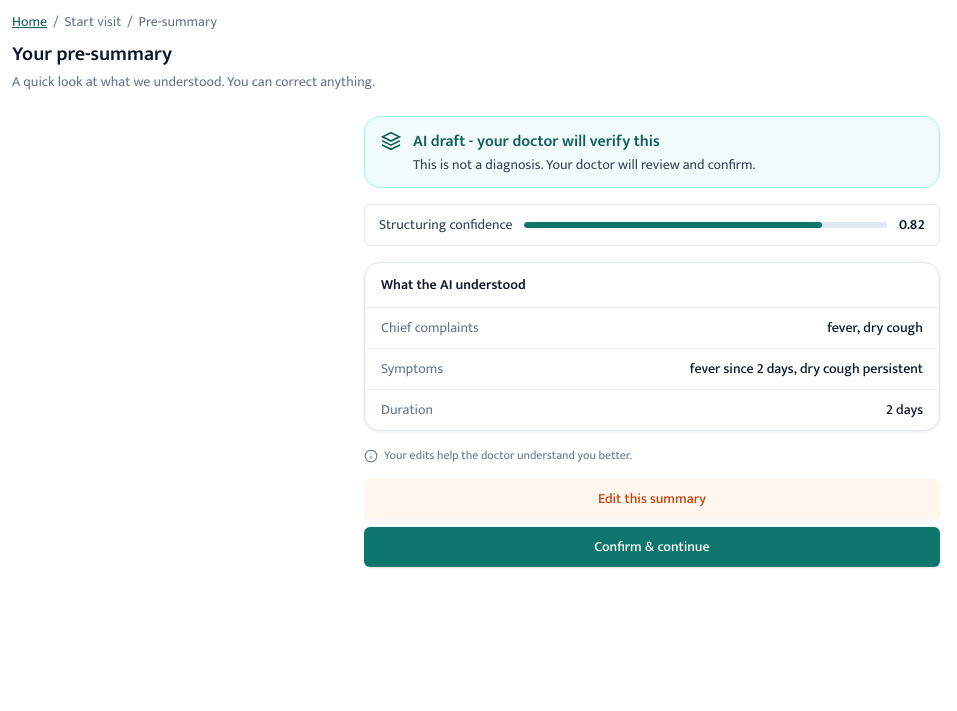
Test: PreSummaryReviewPage failure and edge cases › shows the save-failure banner and retries the same save
The image size is (957, 711).
Step 1. Click the button with test id "btn-edit" → (652, 499), box top-left (364, 479), bottom-right (940, 519)
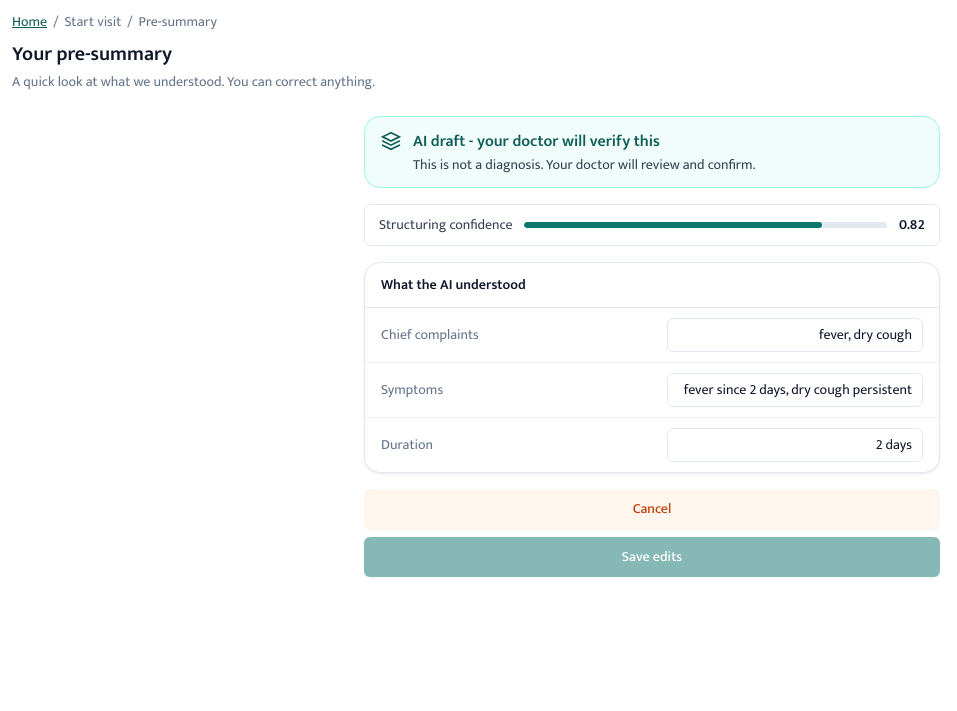
Step 2. Replace the text in the field with test id "field-input-duration" with "3 days" → (795, 445), box top-left (667, 428), bottom-right (923, 462)
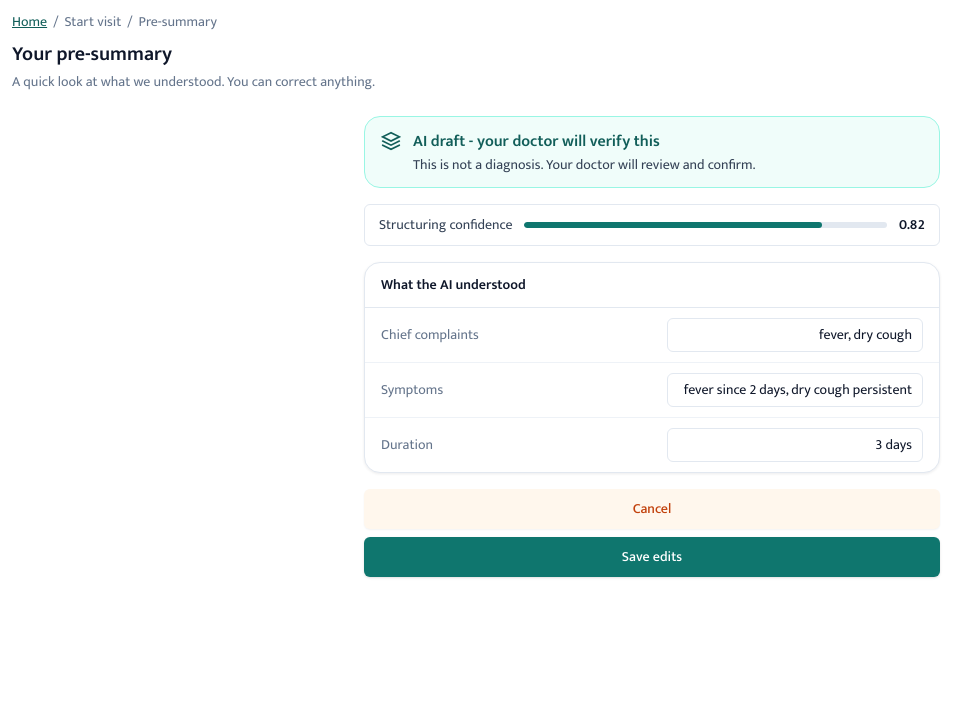
Step 3. Click the button with test id "btn-save" → (652, 557), box top-left (364, 537), bottom-right (940, 577)
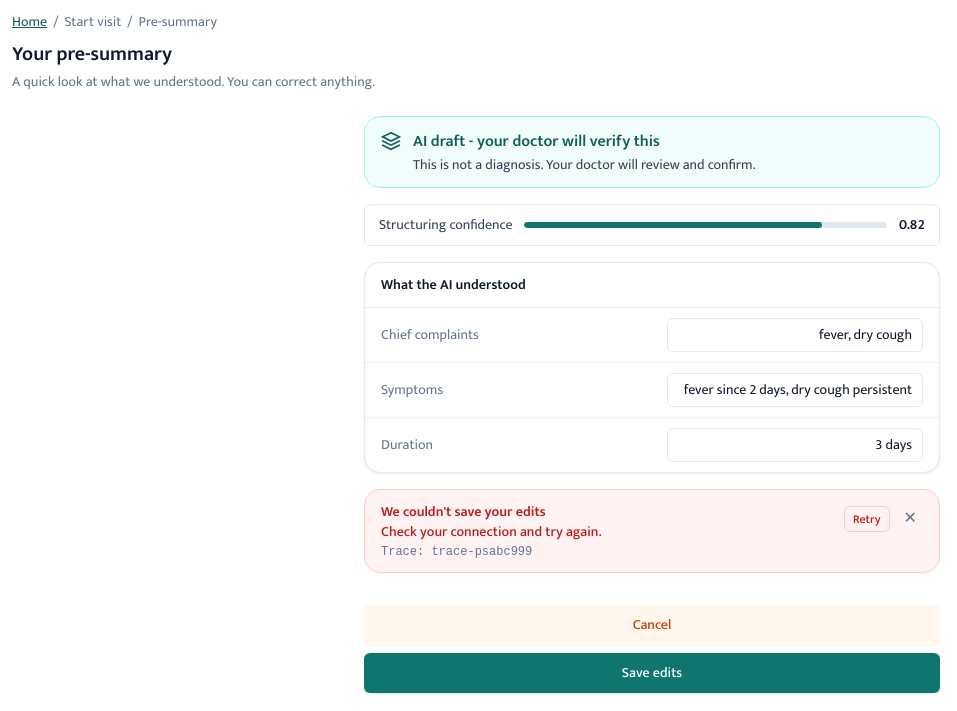
Expected: the message with test id "error-banner" shows "We couldn't save your edits", top-left (381, 500), bottom-right (546, 523)
Expected: the text with test id "error-banner-trace-id" shows "trace-psabc999", top-left (431, 545), bottom-right (532, 559)
Step 4. Click the button with test id "error-banner-retry" → (867, 519), box top-left (844, 506), bottom-right (890, 532)
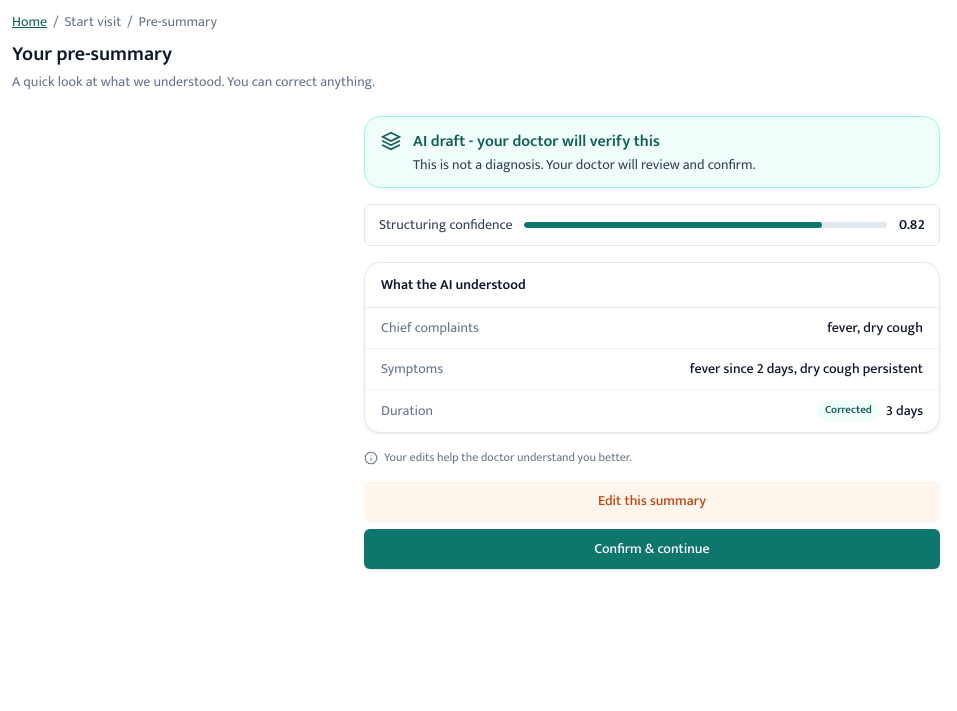
Expected: the text "Corrected" is shown, top-left (817, 400), bottom-right (880, 422)
